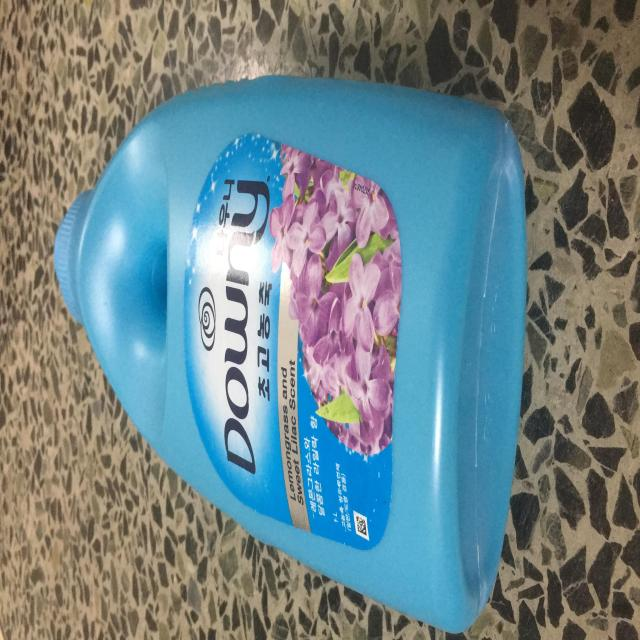bottle: (48, 44, 536, 636)
